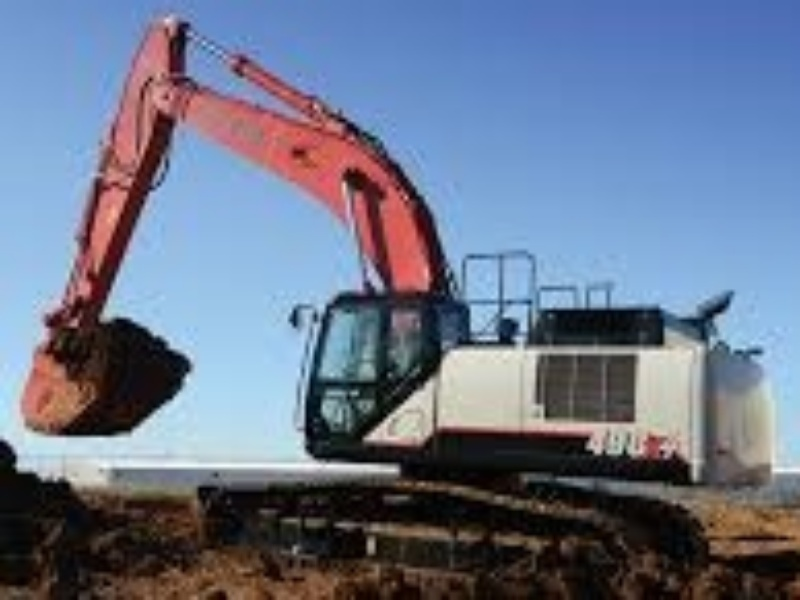wajueji: (194, 234, 784, 600)
